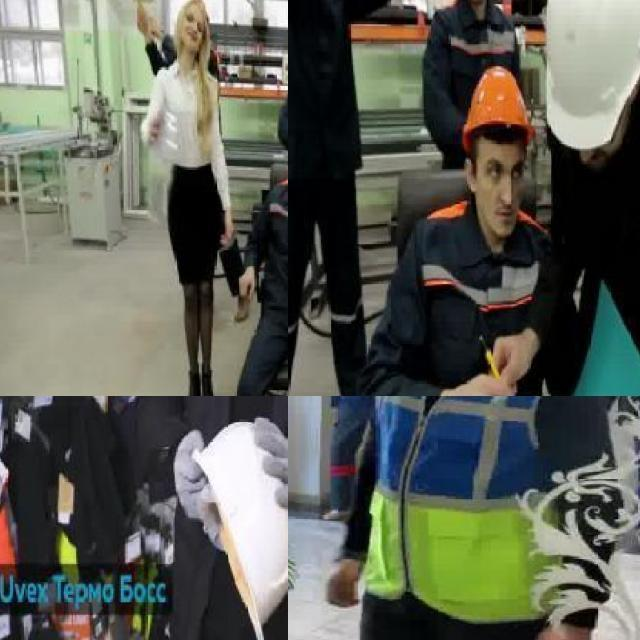apron: (251, 417, 288, 531), (174, 430, 210, 524)
